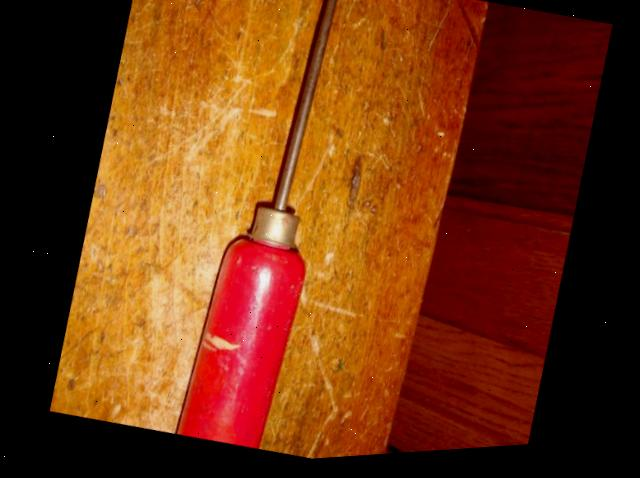ice pick: (151, 0, 379, 459)
